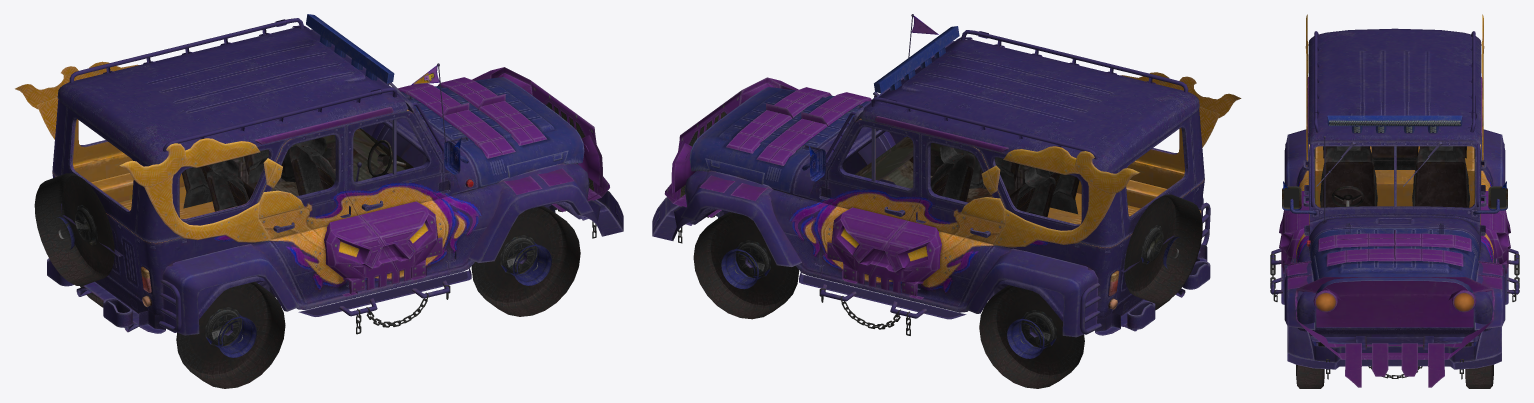
The picture shows the model from 3 angles, left to right: view 1: azimuth 30°, elevation 25°; view 2: azimuth 150°, elevation 25°; view 3: azimuth 270°, elevation 25°; orthographic projection. The views are drawn at different scales.
Parts seen in each view (by area): view 1: Mesh_0056.rip, Mesh_0057.rip; view 2: Mesh_0056.rip, Mesh_0057.rip; view 3: Mesh_0056.rip, Mesh_0057.rip.
Boxes of the visible parts, box(x1,y1,x2,y2) form: Mesh_0056.rip: box(47, 27, 589, 335); Mesh_0057.rip: box(15, 14, 623, 388); Mesh_0056.rip: box(685, 14, 1210, 337); Mesh_0057.rip: box(652, 16, 1241, 388); Mesh_0056.rip: box(1282, 28, 1507, 359); Mesh_0057.rip: box(1270, 14, 1519, 388).
Size of the model in its own units: 4.92 by 2.37 by 2.46.
Materials: 2 (2 with a texture image).
